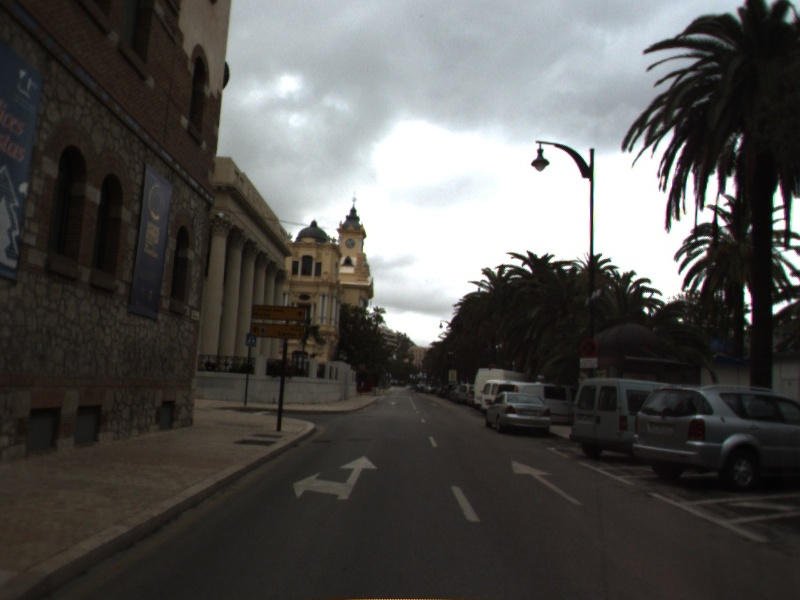STRAIGHT: (509, 457, 584, 506)
STRAIGHT_LEFT: (291, 454, 380, 501)
